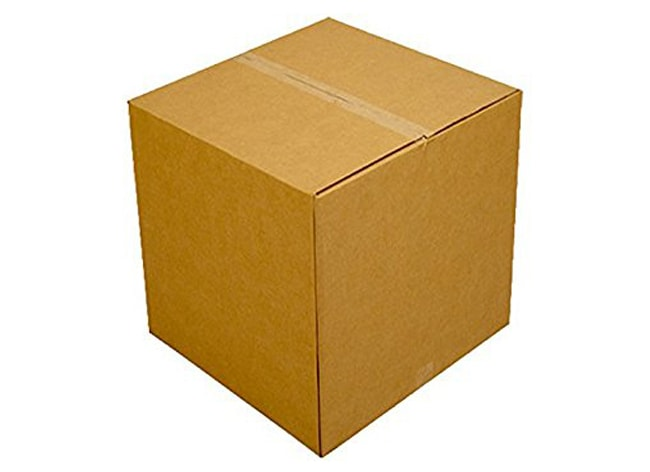Rec_Paper: (82, 21, 572, 459)
